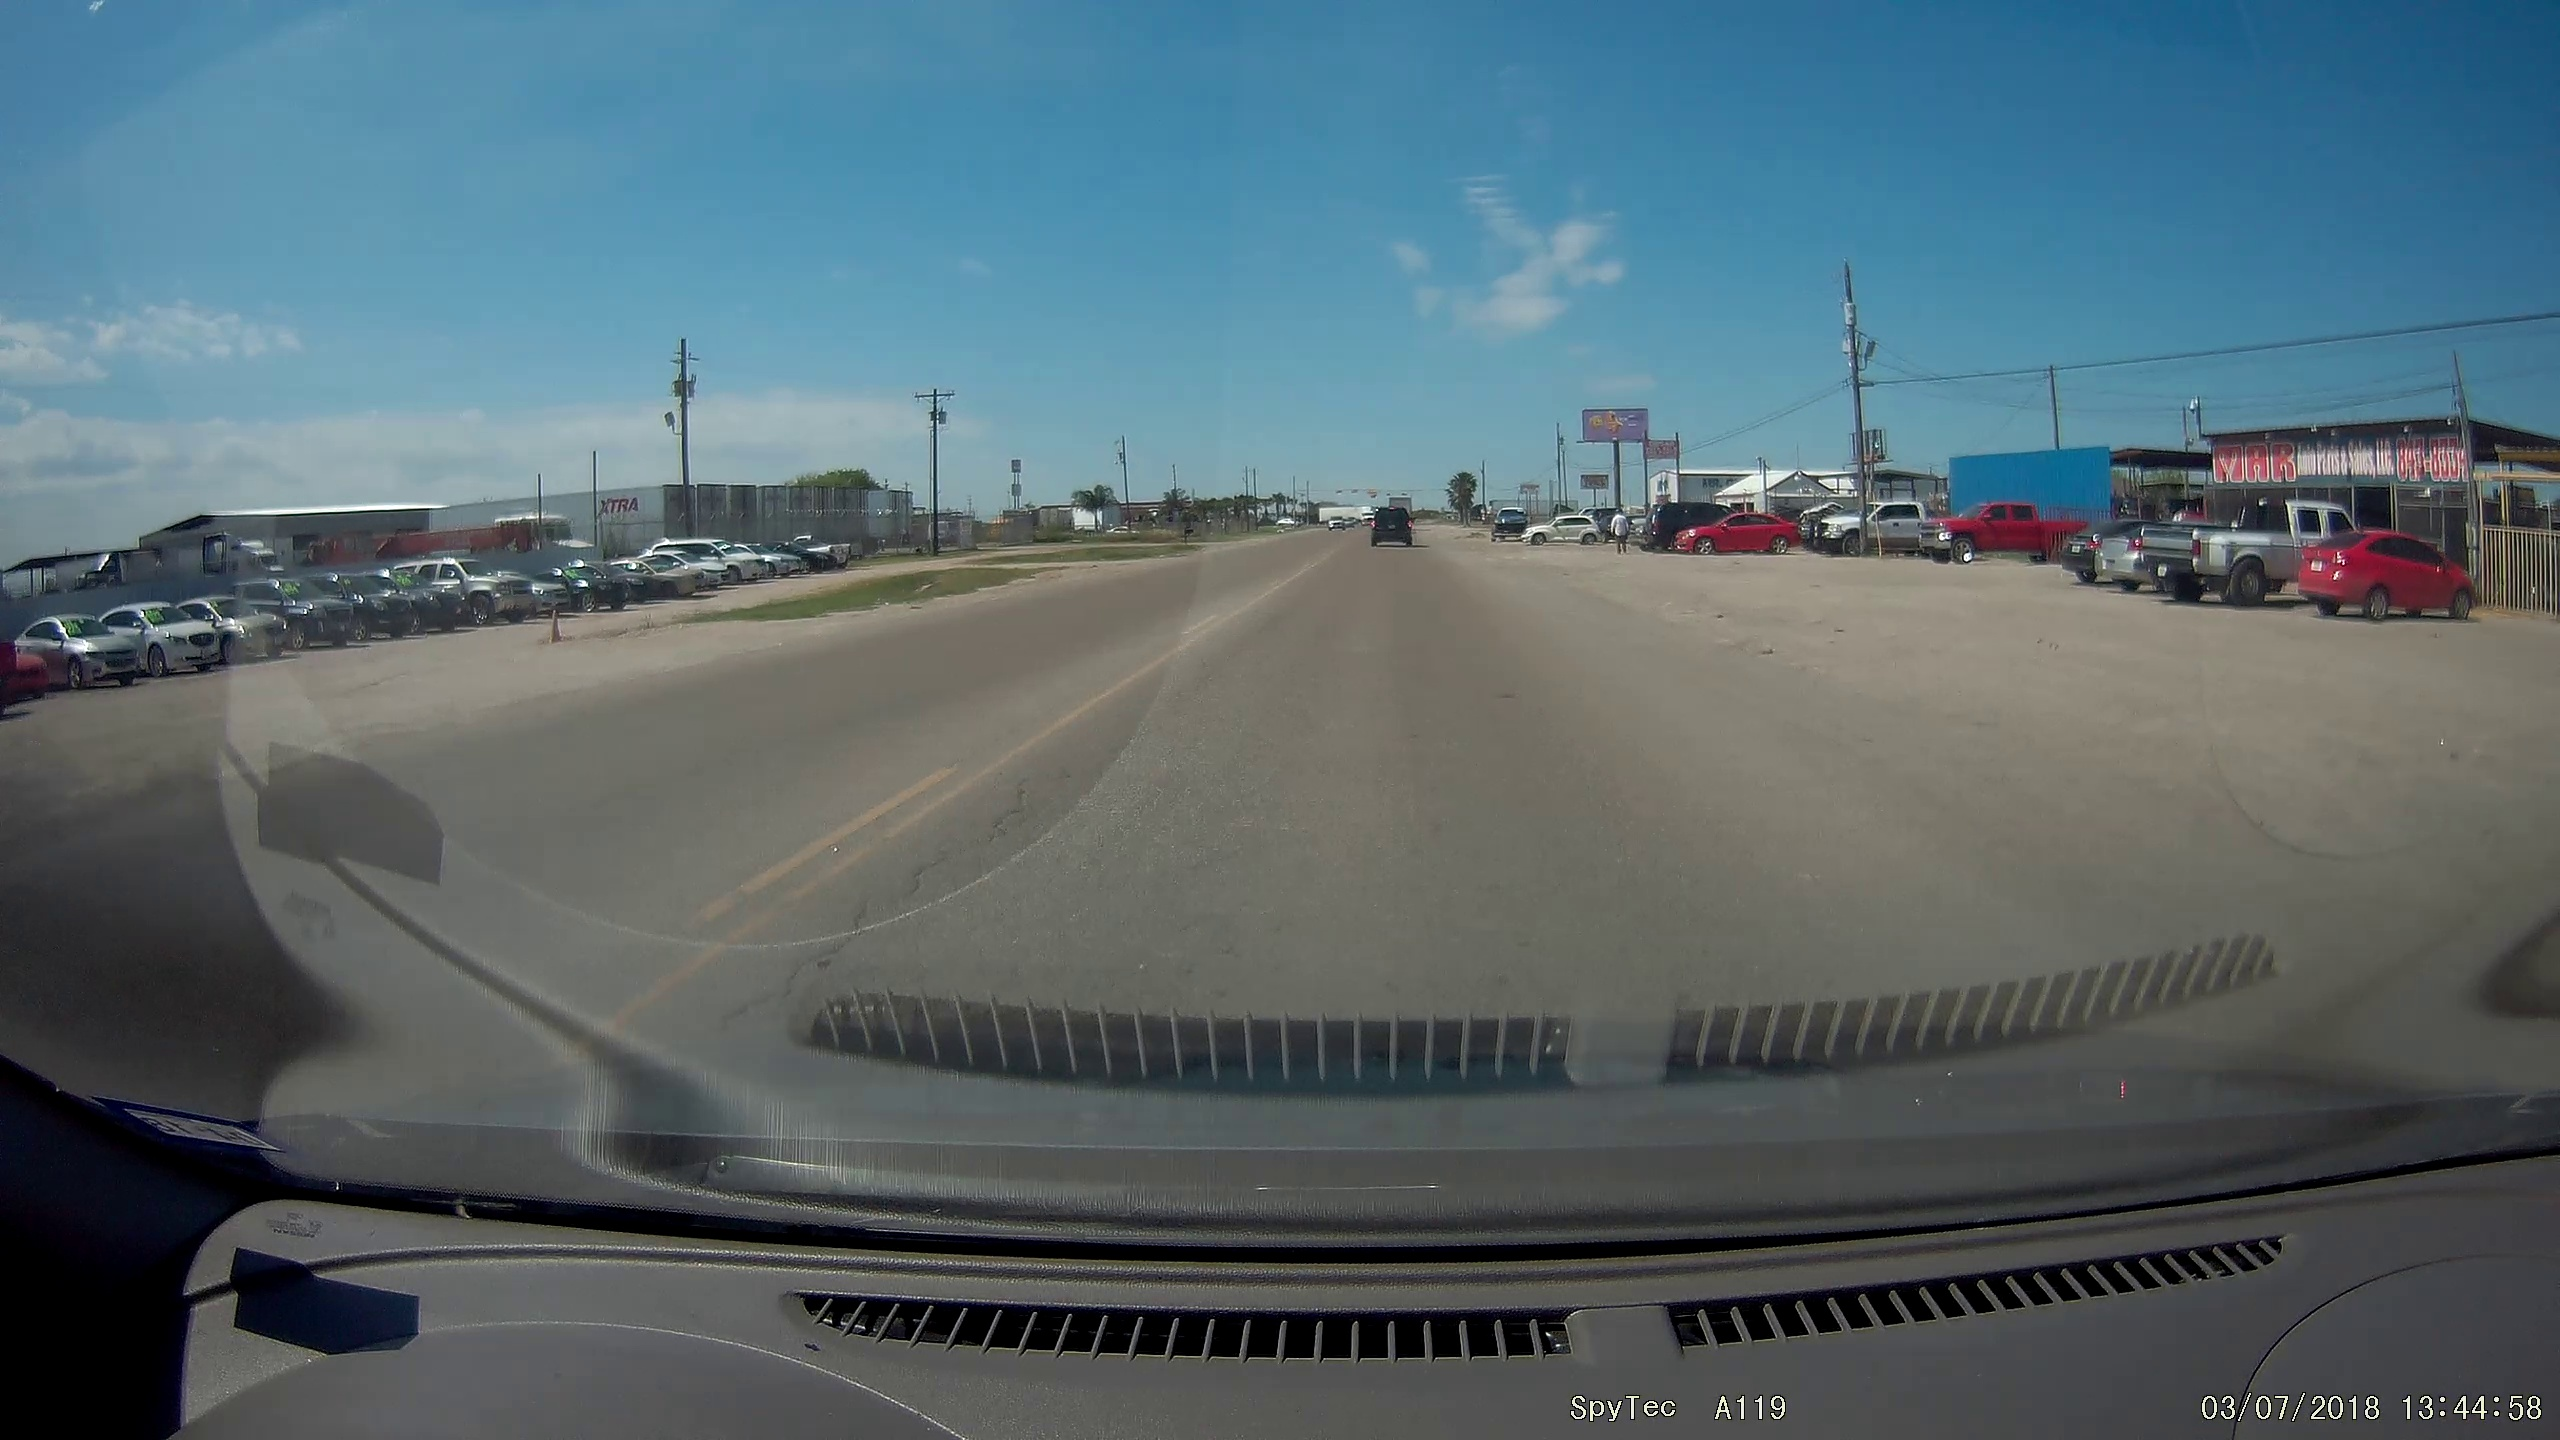blurredLine: (1493, 563, 2059, 918), (207, 652, 819, 849)
crack: (717, 663, 1073, 1051)
